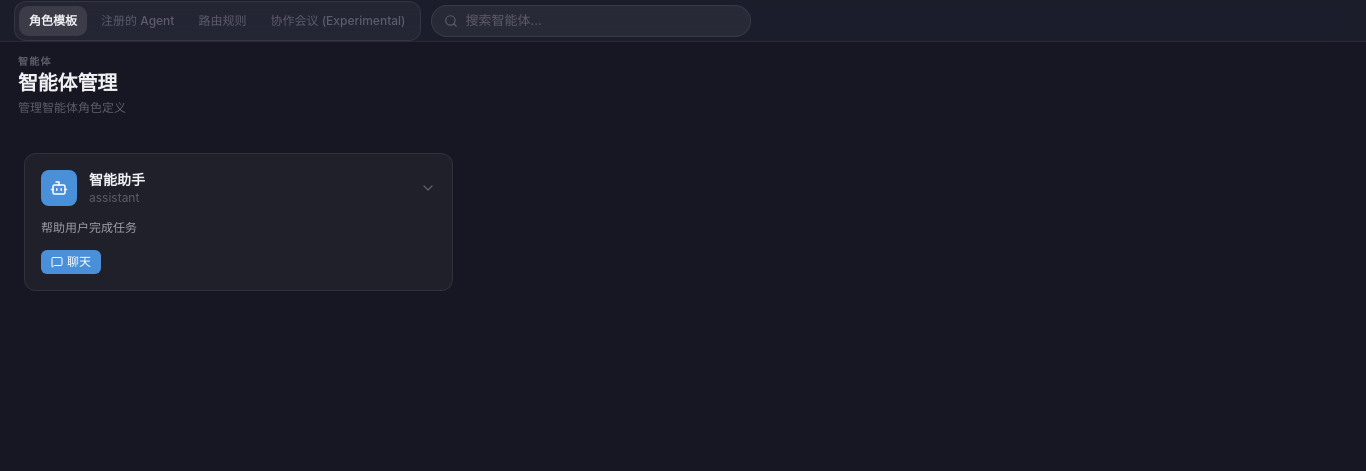
Scenario: AgentsView › renders built-in role details when expanded
The image size is (1366, 471).
Click the element with class "cursor-pointer" at [59, 188], box x1=41 y1=170 x2=436 y2=206
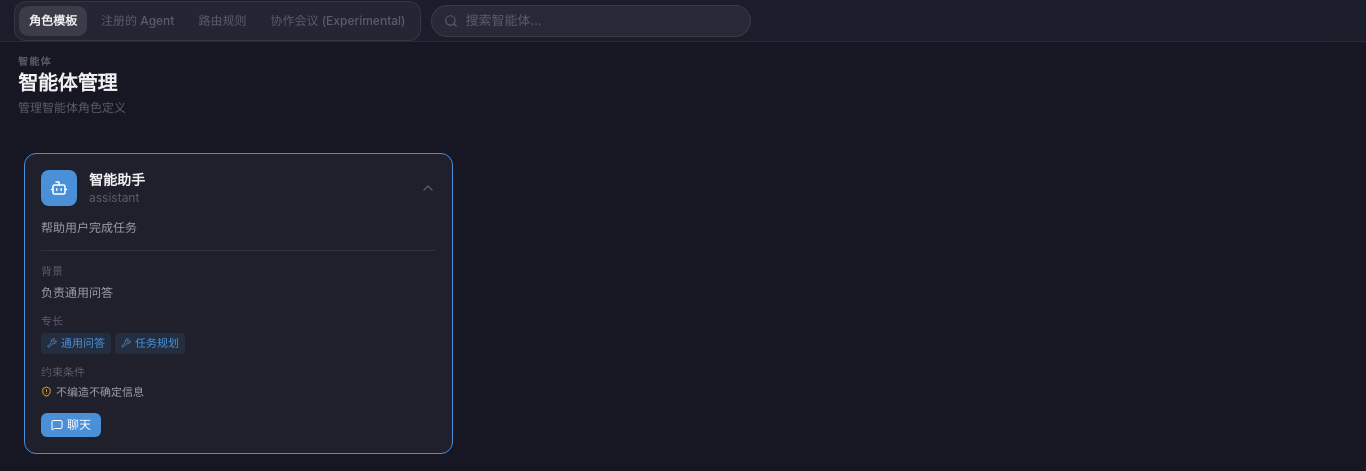
Result: the text "背景" is shown at x1=41 y1=264 x2=63 y2=278
Result: the text "负责通用问答" is shown at x1=41 y1=285 x2=113 y2=300
Result: the text "专长" is shown at x1=41 y1=314 x2=63 y2=328
